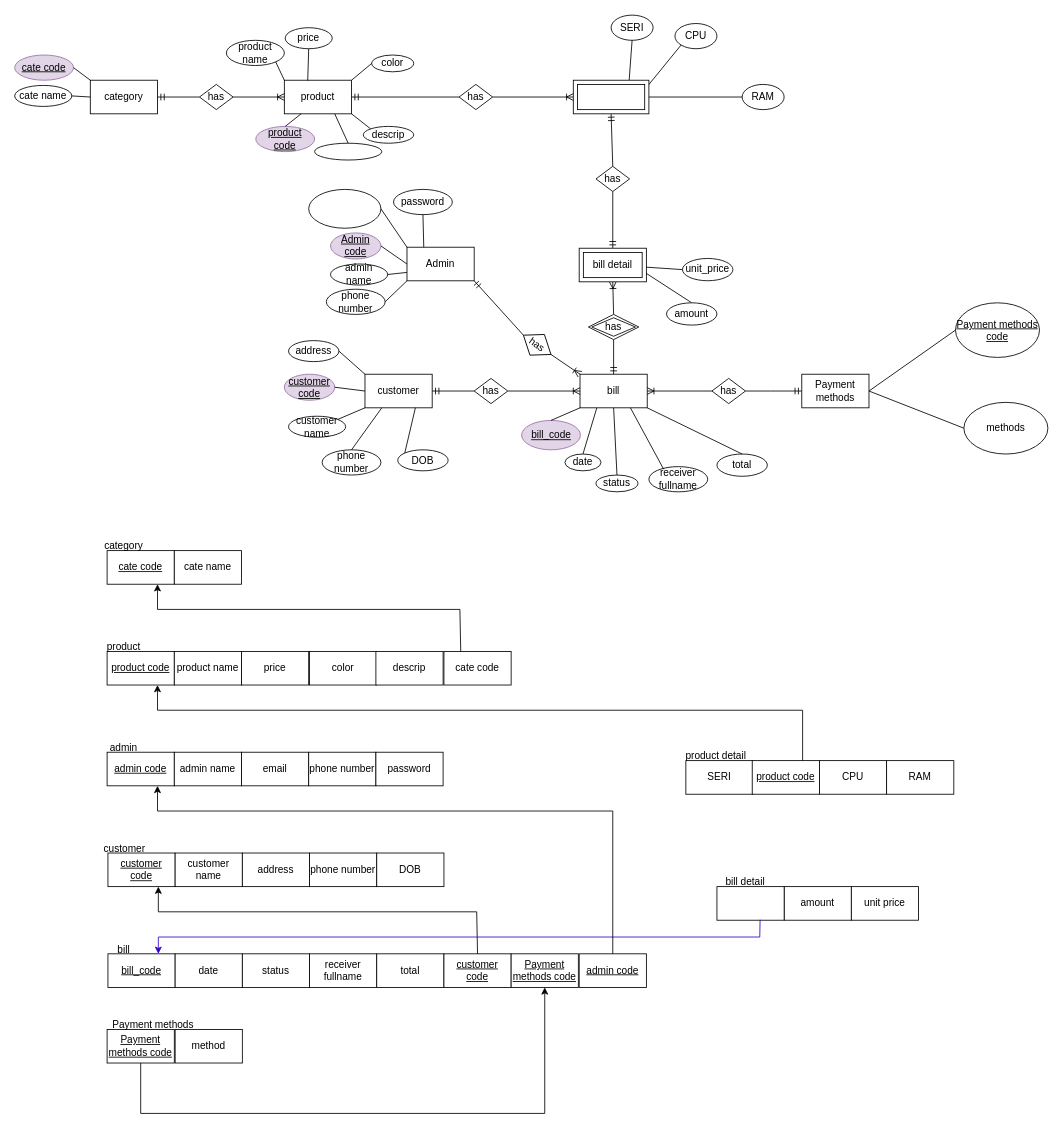
The diagram is 1063 pixels wide and 1135 high, and some of its shapes have lost their labels. The shapes that lost their labels are listed below. From the top down, each one's centre as x and y in pixels, then its label:
(610,96): product_detail
(348,151): release_date
(344,208): Admin_email
(750,903): bill code
